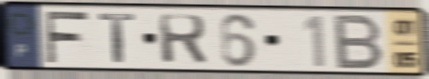1: (302, 13, 325, 69)
6: (218, 11, 258, 69)
B: (333, 13, 386, 71)
F: (41, 9, 91, 65)
R: (155, 12, 209, 66)
T: (96, 12, 137, 65)
